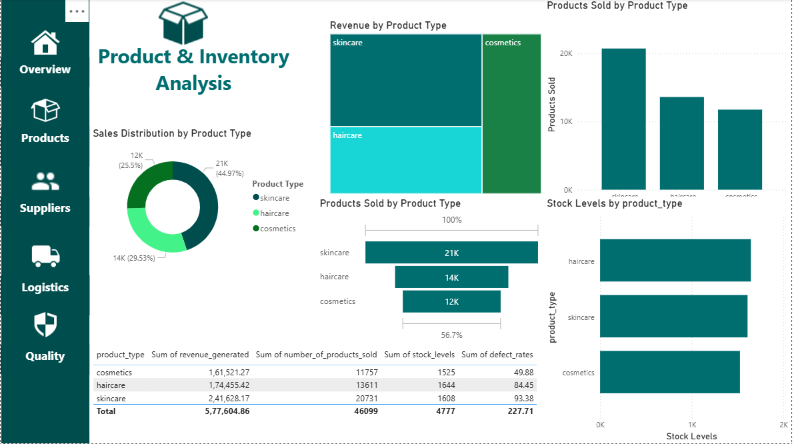

The page's visual inventory and layout, read from the dashboard file:
{"tool":"powerbi","page":{"name":"Page 2","canvas":[1280,720],"ordinal":1},"visuals":[{"type":"shape","box":[0,0,144,720],"z":0},{"type":"textbox","box":[0,96,144,48],"z":1000},{"type":"textbox","box":[0,208,144,64],"z":2000},{"type":"textbox","box":[0,320,144,48],"z":3000},{"type":"textbox","box":[0,448,144,64],"z":4000},{"type":"textbox","box":[0,560,144,48],"z":5000},{"type":"image","box":[32,48,80,48],"z":6000},{"type":"image","box":[48,128,48,96],"z":7000},{"type":"image","box":[48,240,48,112],"z":8000},{"type":"image","box":[48,384,48,64],"z":9000},{"type":"image","box":[48,496,48,64],"z":10000},{"type":"treemap","fields":{"Group":["public supply_chain.product_type"],"Values":["Sum(public supply_chain.revenue_generated)"]},"box":[528,32,352,288],"z":11000},{"type":"columnChart","fields":{"Category":["public supply_chain.product_type"],"Y":["public supply_chain.No. Of Products Sold"]},"box":[880,0,400,352],"z":12000},{"type":"barChart","fields":{"Y":["Sum(public supply_chain.stock_levels)"],"Category":["public supply_chain.product_type"]},"box":[880,320,400,400],"z":13000},{"type":"tableEx","fields":{"Values":["public supply_chain.product_type","Sum(public supply_chain.revenue_generated)","Sum(public supply_chain.number_of_products_sold)","Sum(public supply_chain.stock_levels)","Sum(public supply_chain.defect_rates)"]},"box":[144,560,736,144],"z":14000},{"type":"donutChart","fields":{"Y":["public supply_chain.No. Of Products Sold"],"Category":["public supply_chain.product_type"]},"box":[144,208,368,240],"z":15000},{"type":"textbox","box":[144,64,336,96],"z":16000},{"type":"image","box":[240,0,112,80],"z":17000},{"type":"funnel","fields":{"Category":["public supply_chain.product_type"],"Y":["public supply_chain.No. Of Products Sold"]},"box":[512,320,368,240],"z":18000}]}

Visuals, with their boxes on the page's 1280x720 design canvas (x1, y1, x2, y2). These are canvas units, not pixel positions in the 793x444 screenshot, which may show the page scaled, cropped or inside an application window:
shape: {"left": 0, "top": 0, "right": 144, "bottom": 720}
textbox: {"left": 0, "top": 96, "right": 144, "bottom": 144}
textbox: {"left": 0, "top": 208, "right": 144, "bottom": 272}
textbox: {"left": 0, "top": 320, "right": 144, "bottom": 368}
textbox: {"left": 0, "top": 448, "right": 144, "bottom": 512}
textbox: {"left": 0, "top": 560, "right": 144, "bottom": 608}
image: {"left": 32, "top": 48, "right": 112, "bottom": 96}
image: {"left": 48, "top": 128, "right": 96, "bottom": 224}
image: {"left": 48, "top": 240, "right": 96, "bottom": 352}
image: {"left": 48, "top": 384, "right": 96, "bottom": 448}
image: {"left": 48, "top": 496, "right": 96, "bottom": 560}
treemap - public supply_chain.product_type x Sum(public supply_chain.revenue_generated): {"left": 528, "top": 32, "right": 880, "bottom": 320}
columnChart - public supply_chain.product_type x public supply_chain.No. Of Products Sold: {"left": 880, "top": 0, "right": 1280, "bottom": 352}
barChart - Sum(public supply_chain.stock_levels) x public supply_chain.product_type: {"left": 880, "top": 320, "right": 1280, "bottom": 720}
tableEx - public supply_chain.product_type x Sum(public supply_chain.revenue_generated): {"left": 144, "top": 560, "right": 880, "bottom": 704}
donutChart - public supply_chain.No. Of Products Sold x public supply_chain.product_type: {"left": 144, "top": 208, "right": 512, "bottom": 448}
textbox: {"left": 144, "top": 64, "right": 480, "bottom": 160}
image: {"left": 240, "top": 0, "right": 352, "bottom": 80}
funnel - public supply_chain.product_type x public supply_chain.No. Of Products Sold: {"left": 512, "top": 320, "right": 880, "bottom": 560}
